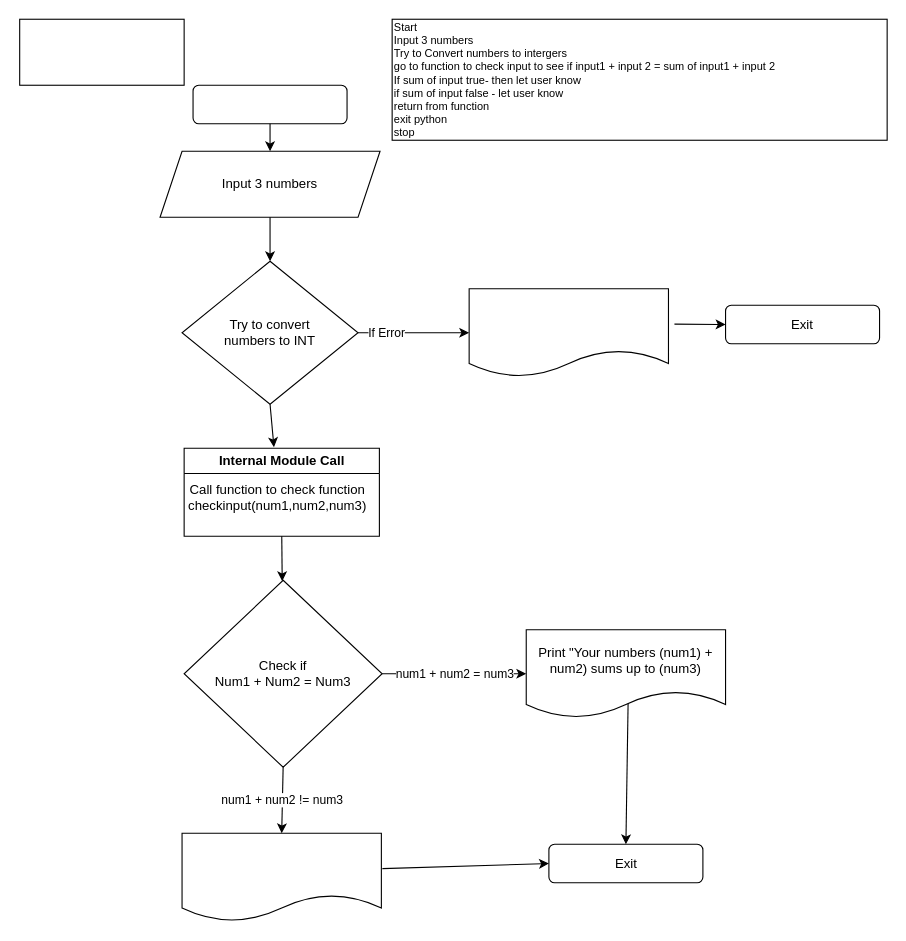
This 906x941 diagram has some shape labels left out. Each missing label, with the box of its shape:
CIS 129 Thomas Burns M4 Sum two numers and see if they match a thrid: (19, 18, 184, 85)
If error print "Please enter a number next time": (468, 288, 668, 377)
Print "Your numbers (num1) + num2) do NOT sum up to (num3): (181, 832, 381, 921)
Start: (192, 84, 347, 124)
